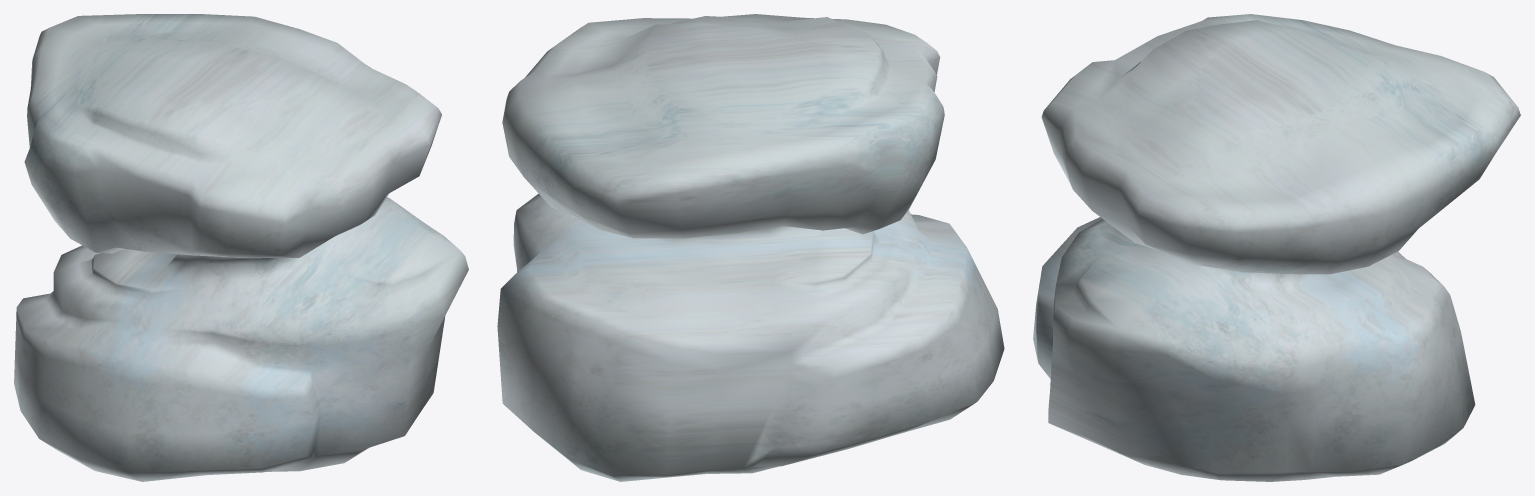
The model's file is P_RockDesert_Platform03.obj.
3 renders of one model, left to right at view 1: azimuth 30°, elevation 25°; view 2: azimuth 150°, elevation 25°; view 3: azimuth 270°, elevation 25°, orthographic. The views are drawn at different scales.
Size of the model in its own units: 24.37 by 20.01 by 25.73.
